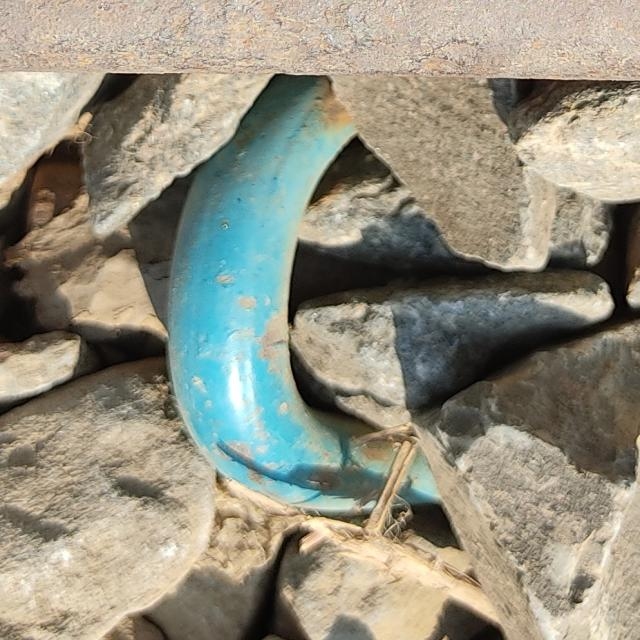track_bolt: (159, 75, 448, 519)
